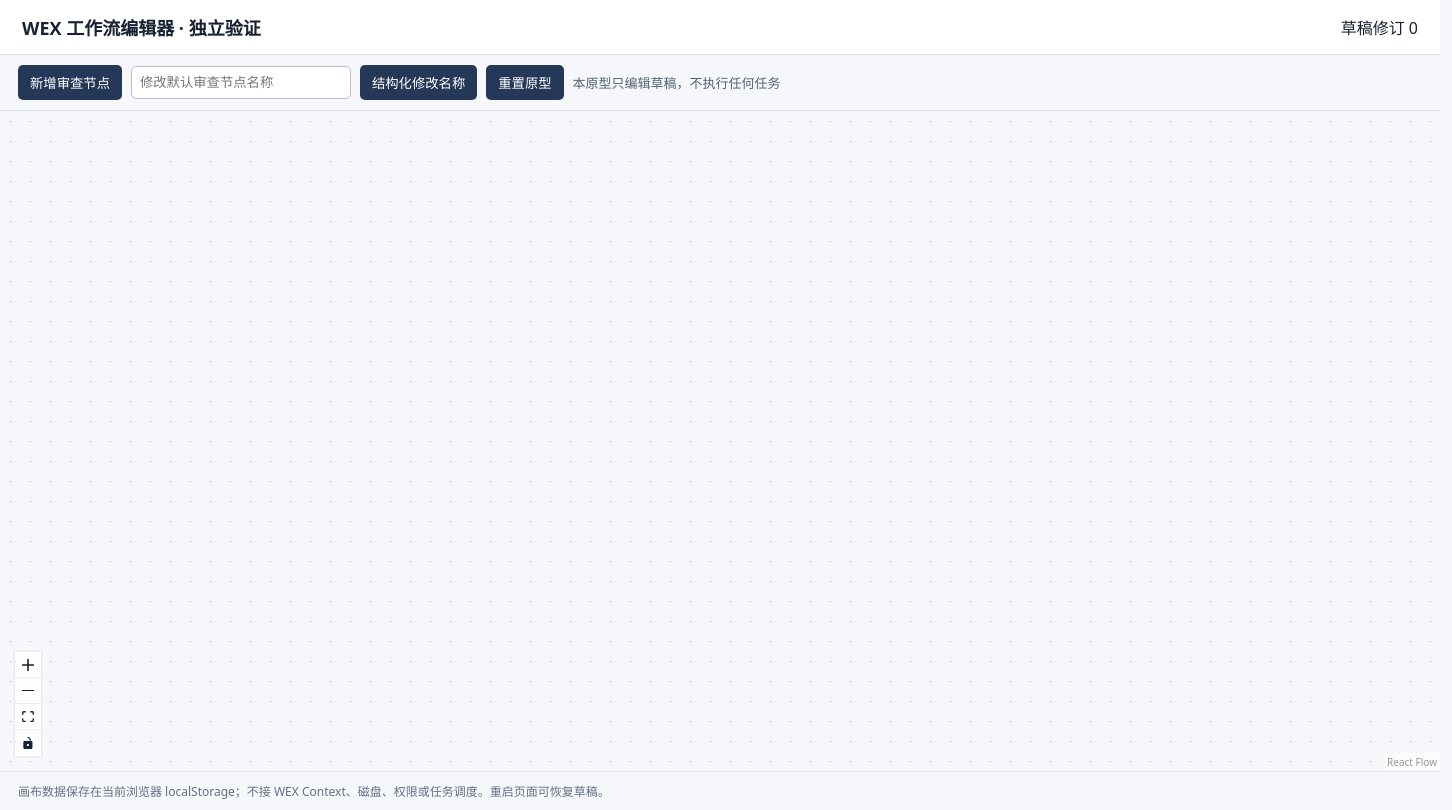
Test: editor DOM integration › failed storage write leaves the displayed and next edit revision consistent
This screenshot has width=1452, height=810.
Click the button "新增审查节点" at (70, 82), box 18,65 -> 122,100
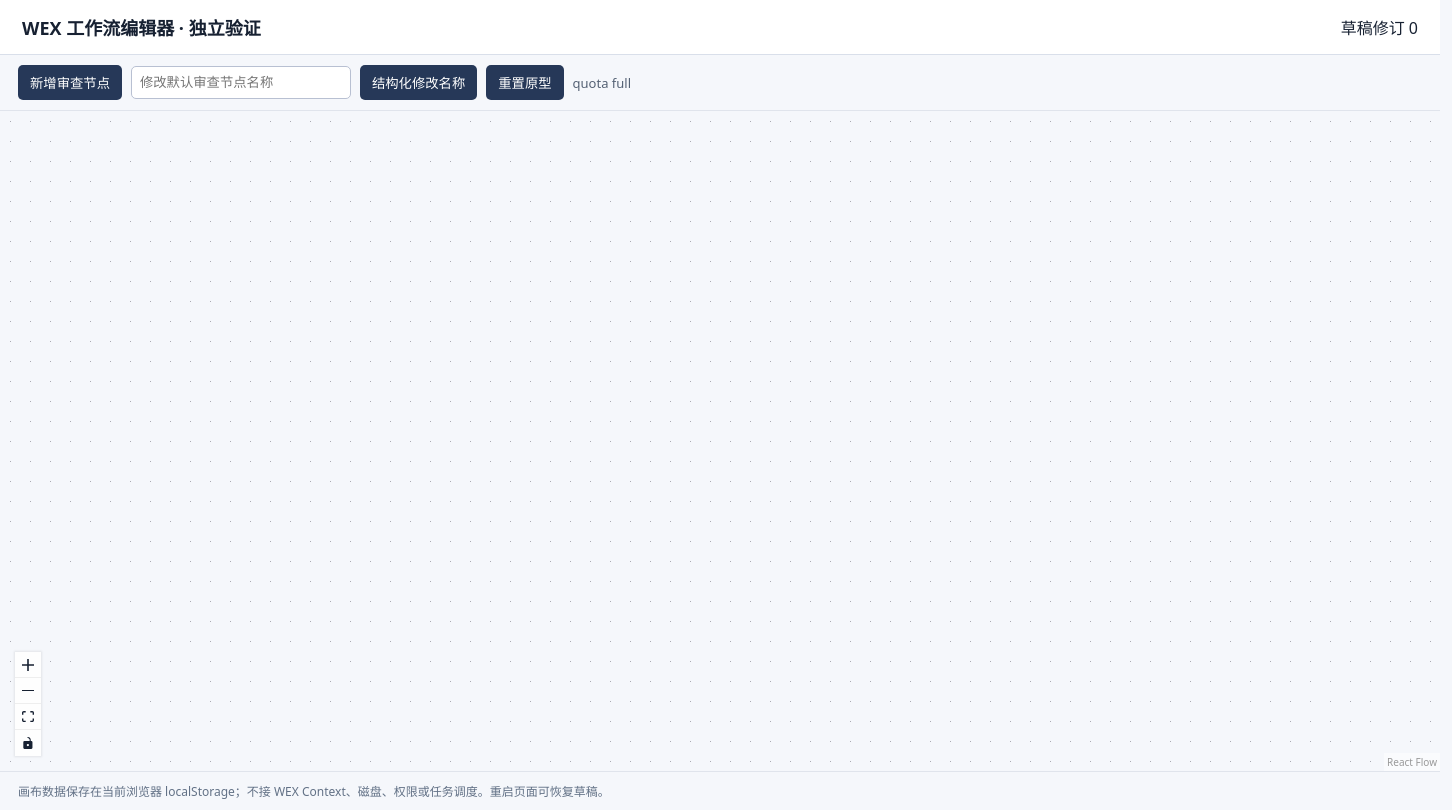
Expected: the text "草稿修订 0" is shown, 1341,15 -> 1418,39
Expected: the message does not show "已修改"
Click the button "新增审查节点" at (70, 82), box 18,65 -> 122,100
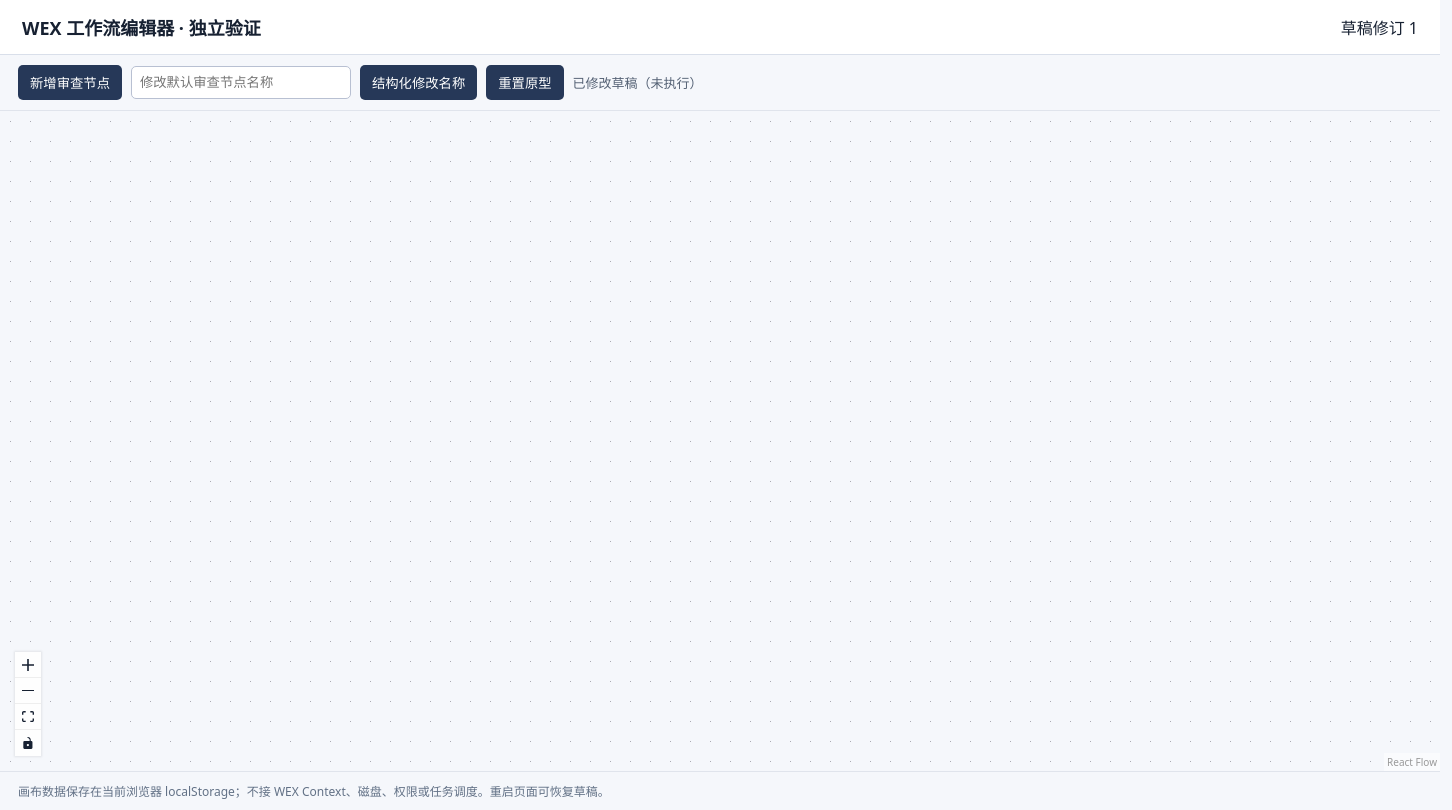
Now the text "草稿修订 1" is shown, box 1341,15 -> 1418,39
